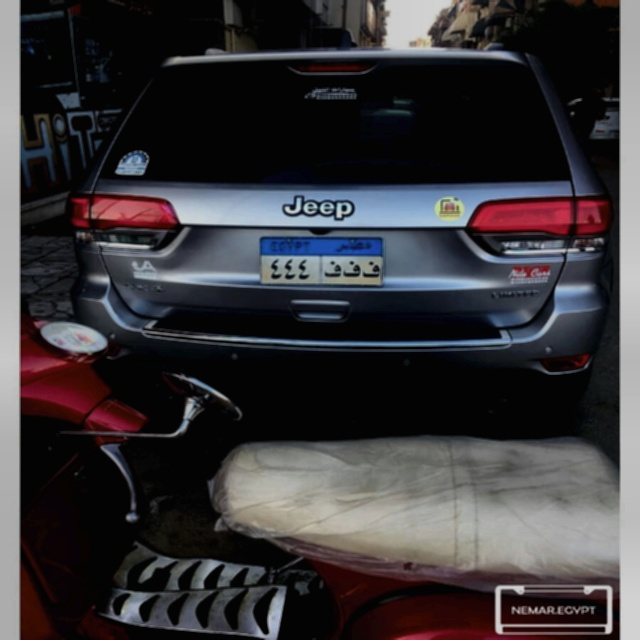License Plate: (255, 234, 386, 289)
